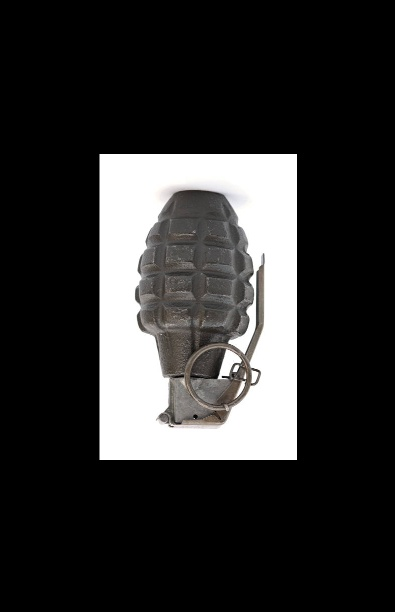e1: (132, 191, 270, 431)
